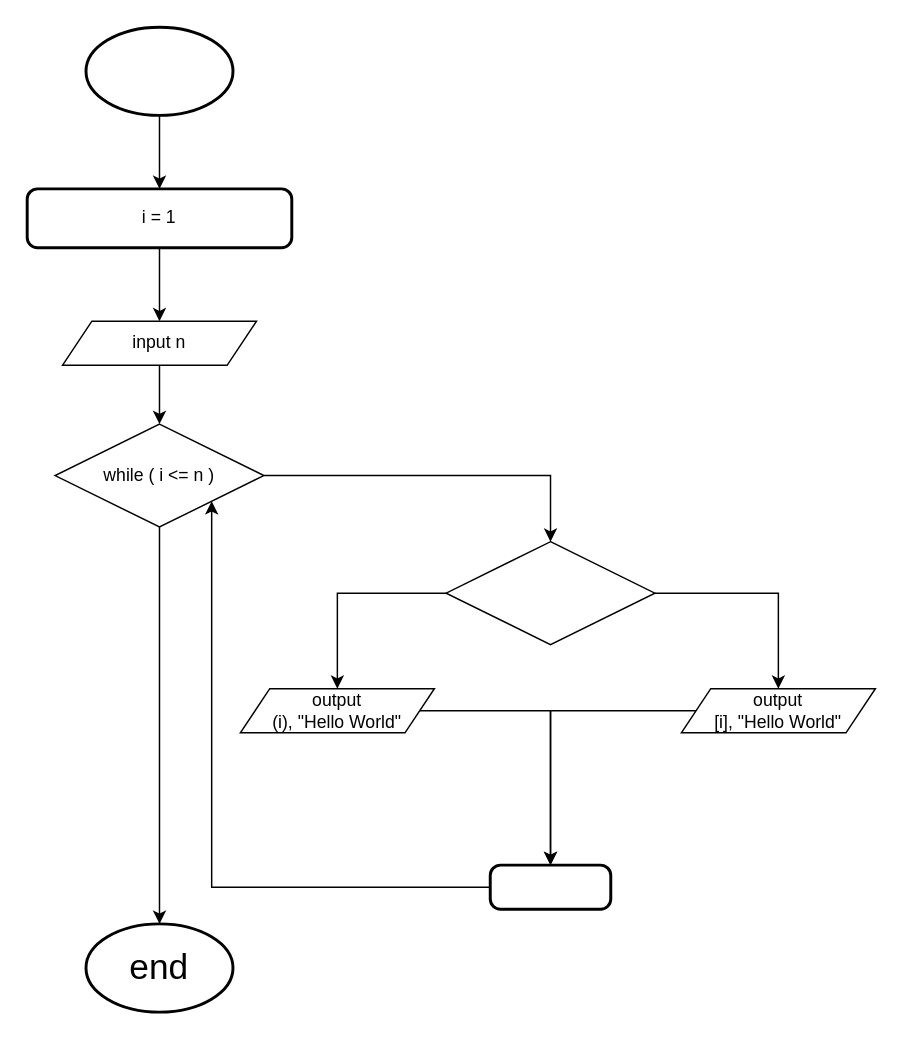
This 901x1038 diagram has some shape labels left out. Here are the shapes that lost their labels. From the top down, the centre of each, then its label:
At [159,70]: "start".
At [550,592]: "if ( n % 2 == 0 )".
At [550,886]: "i++".
